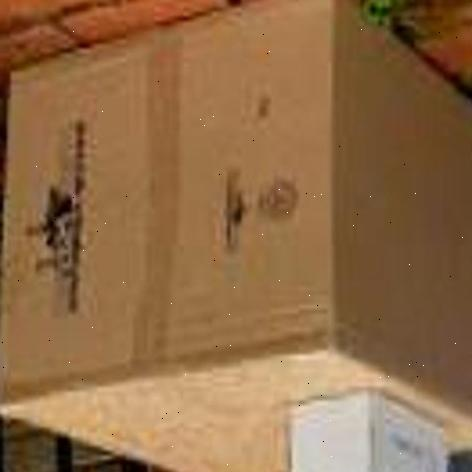Other: (3, 35, 472, 472), (279, 399, 448, 472)
